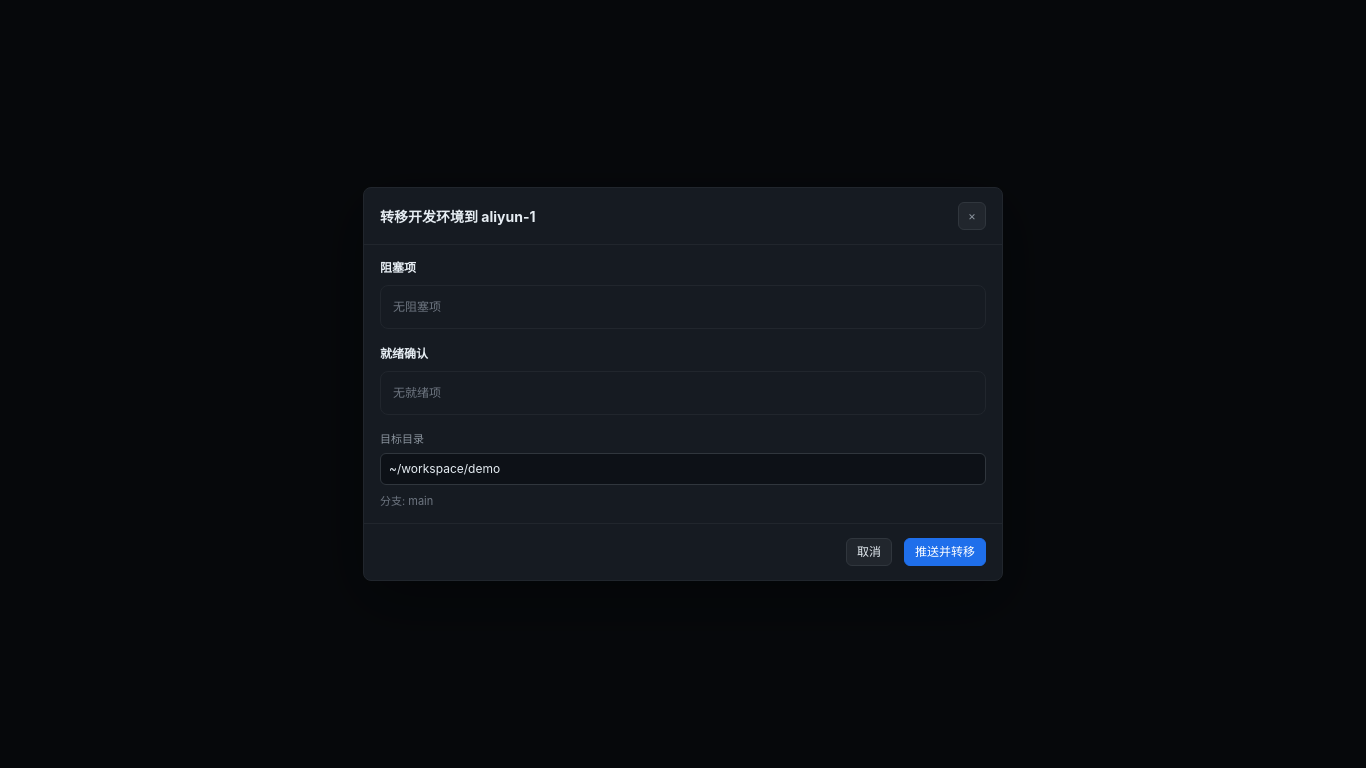
Test: ProjectTransferDialog preview › 执行失败（如 409 已有进行中转移）退回 preview 并展示 applyError
Expected: the text "无阻塞项" is shown, [380, 285, 986, 329]
Click the button with test id "transfer-execute" at x=945, y=552, box [904, 538, 986, 566]
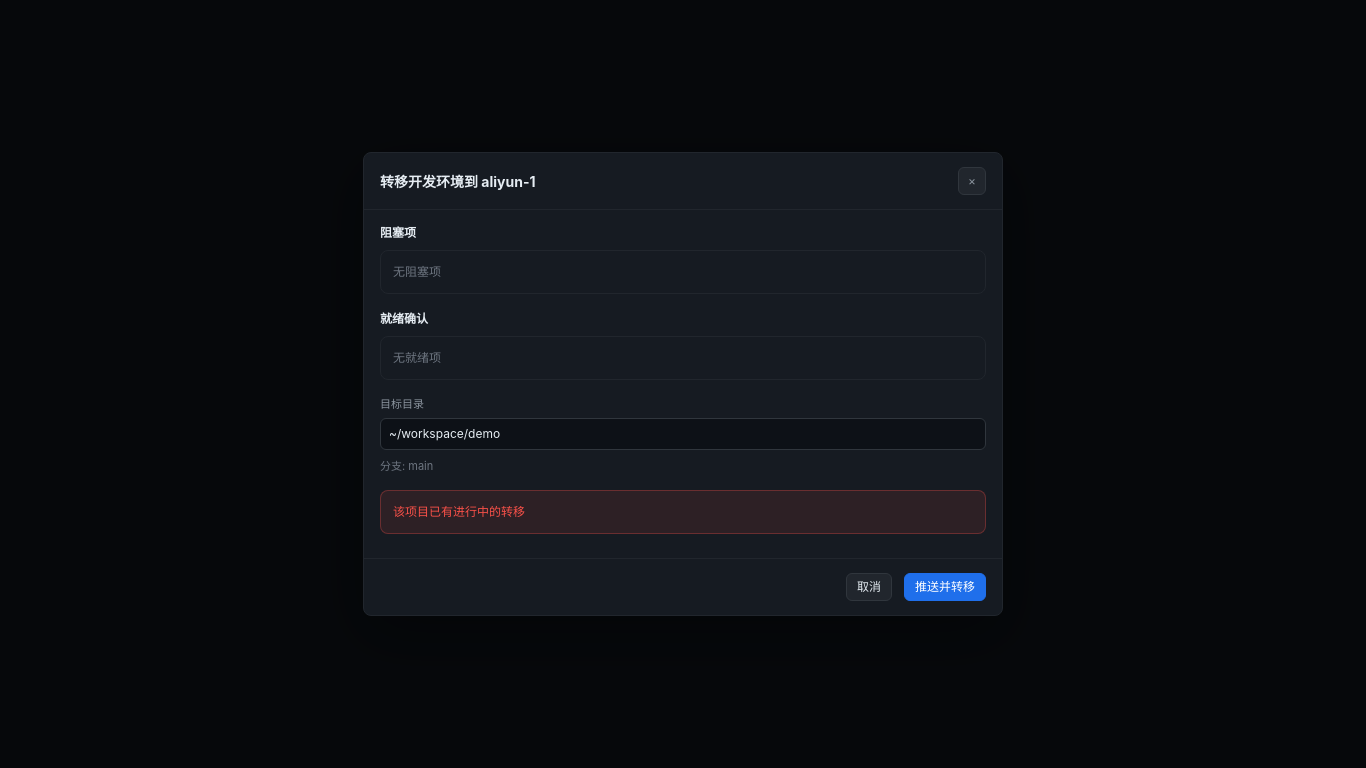
Expected: the text "无阻塞项" is shown, [380, 250, 986, 294]
Result: the text "该项目已有进行中的转移" is shown at [380, 490, 986, 534]
Result: the text with test id "transfer-apply-error" reads "该项目已有进行中的转移" at [393, 504, 525, 519]
